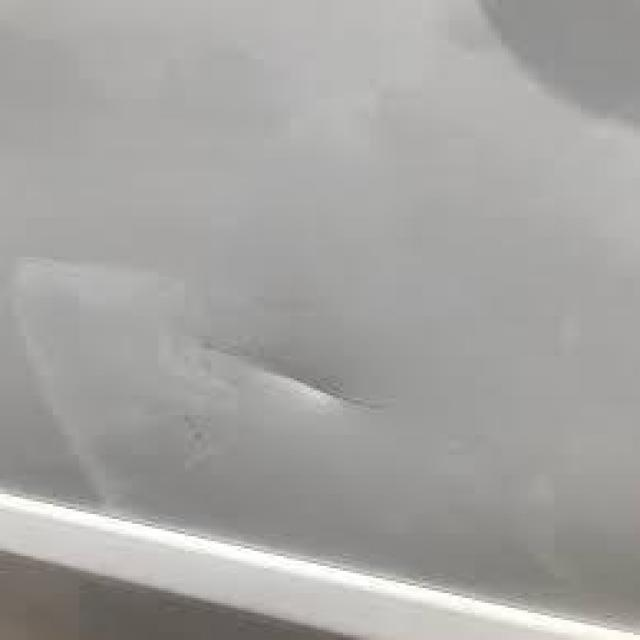dent: (178, 323, 389, 436)
